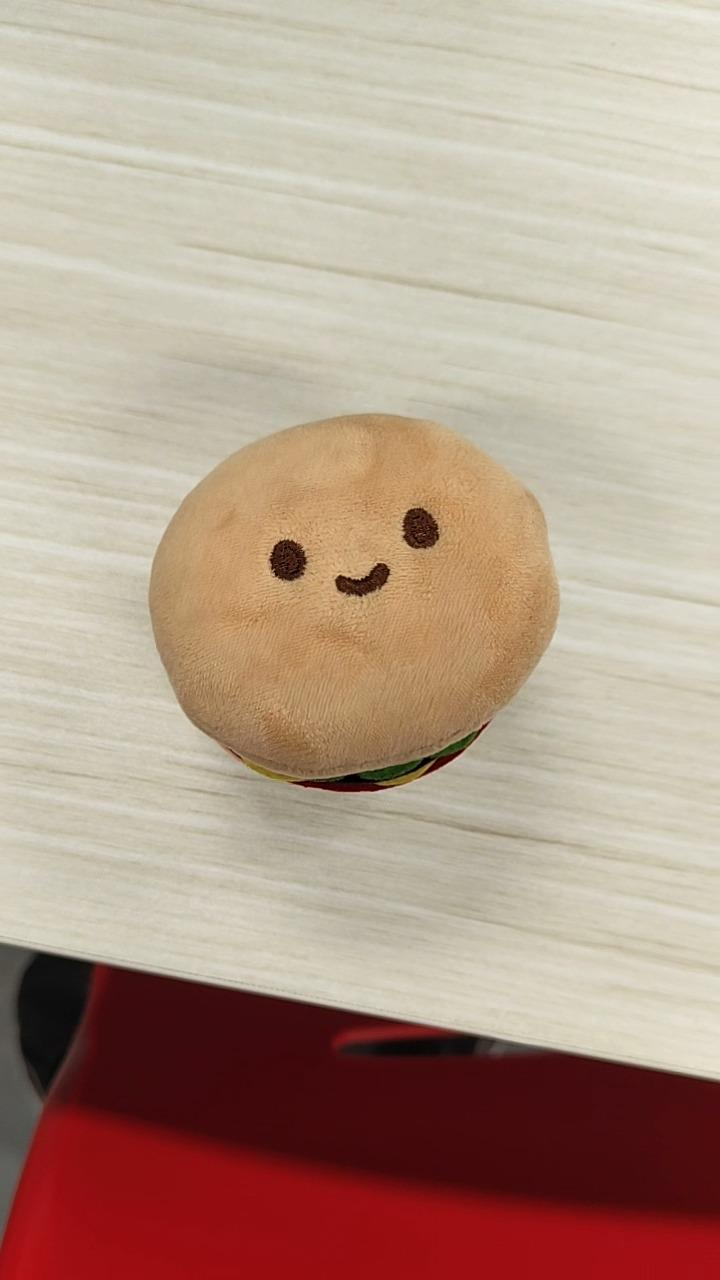hamburger: (146, 410, 561, 794)
